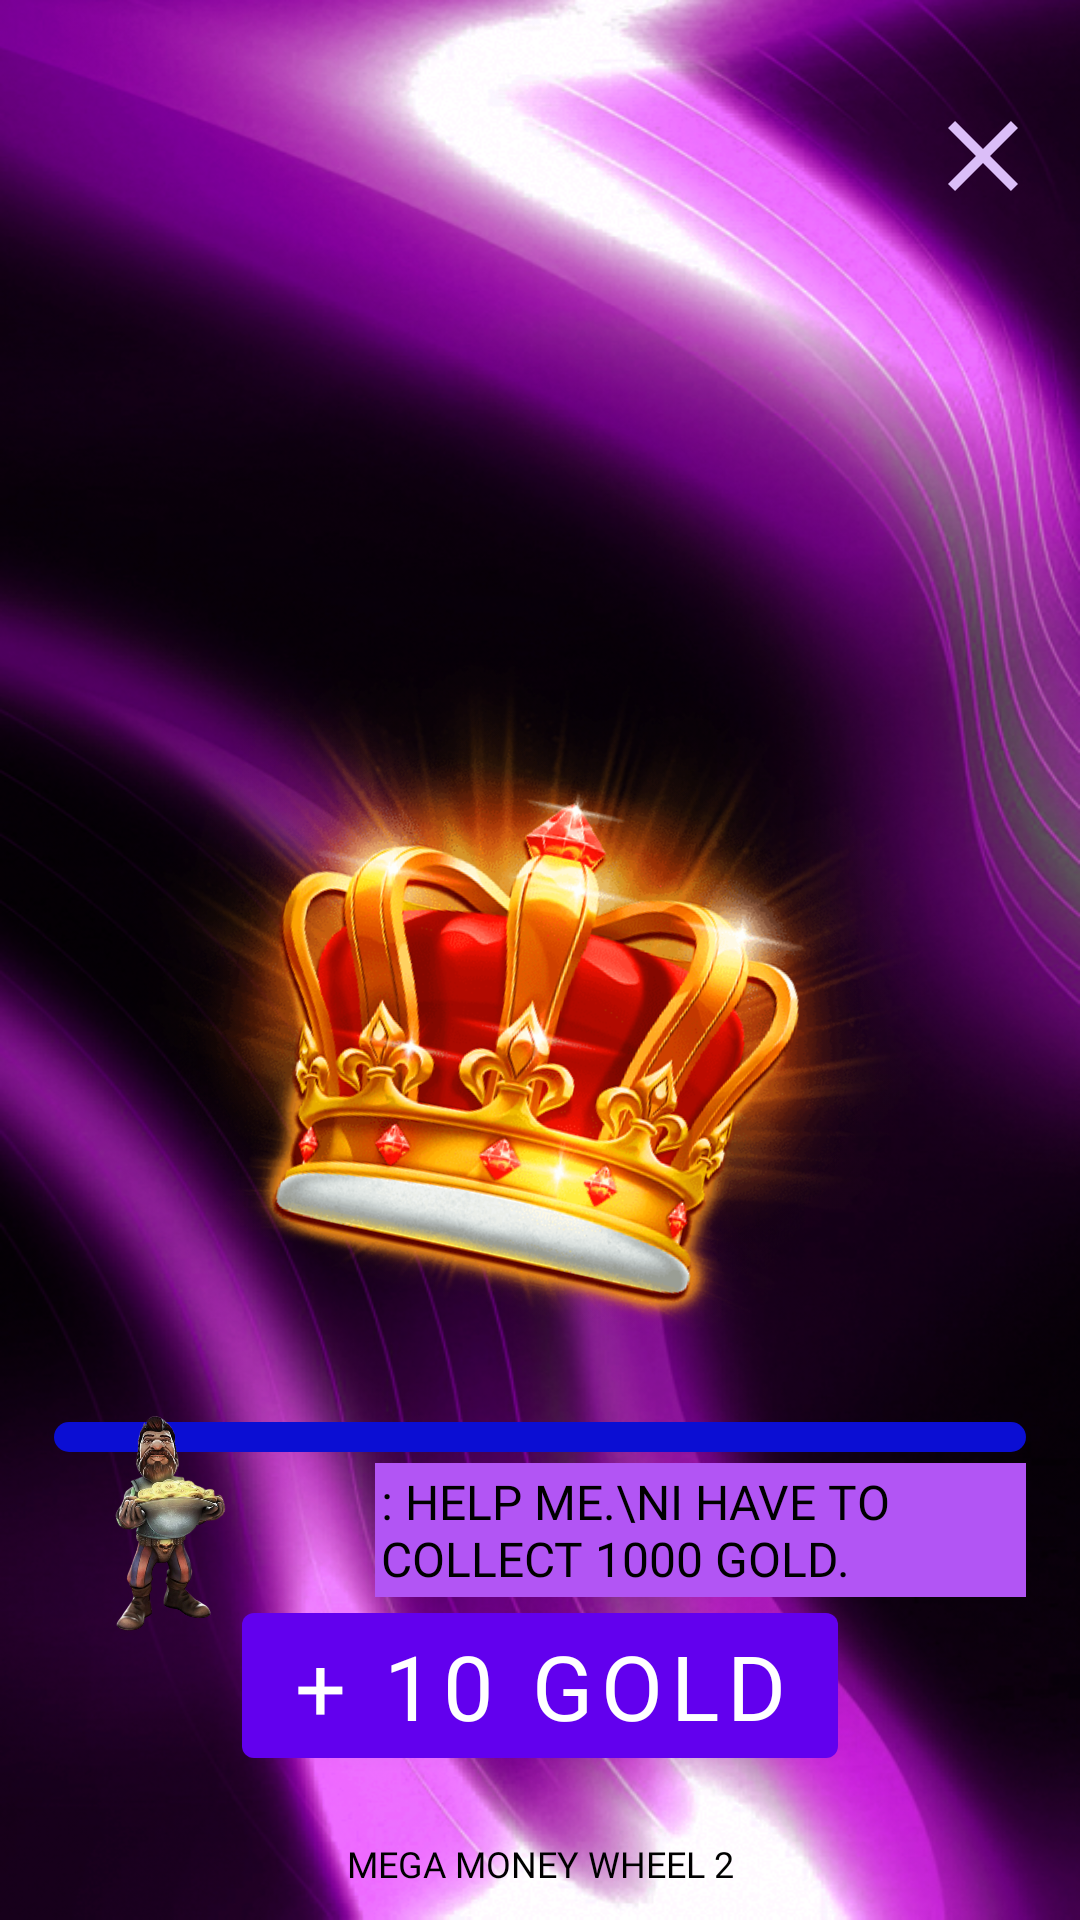

Icon bounding boxes for this 1080px x 1920px phone screenshot, format (x1, y1, x2, y2):
close: (948, 121, 1018, 191)
